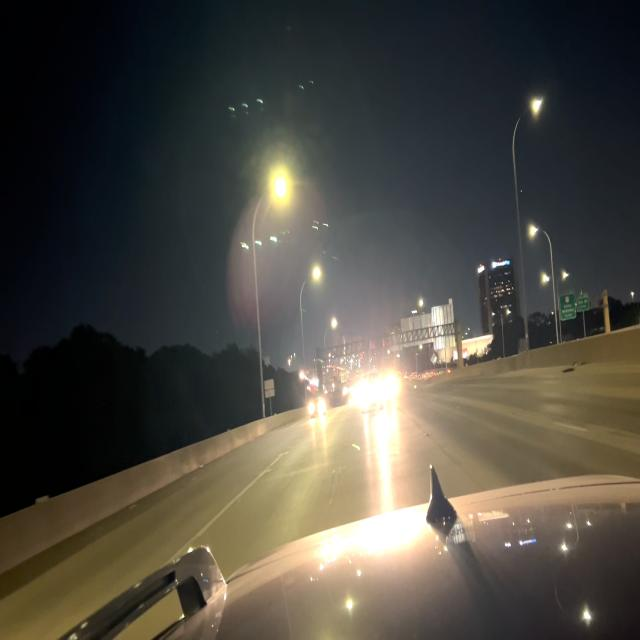back-of-sign: (386, 300, 455, 355), (264, 377, 275, 398)
